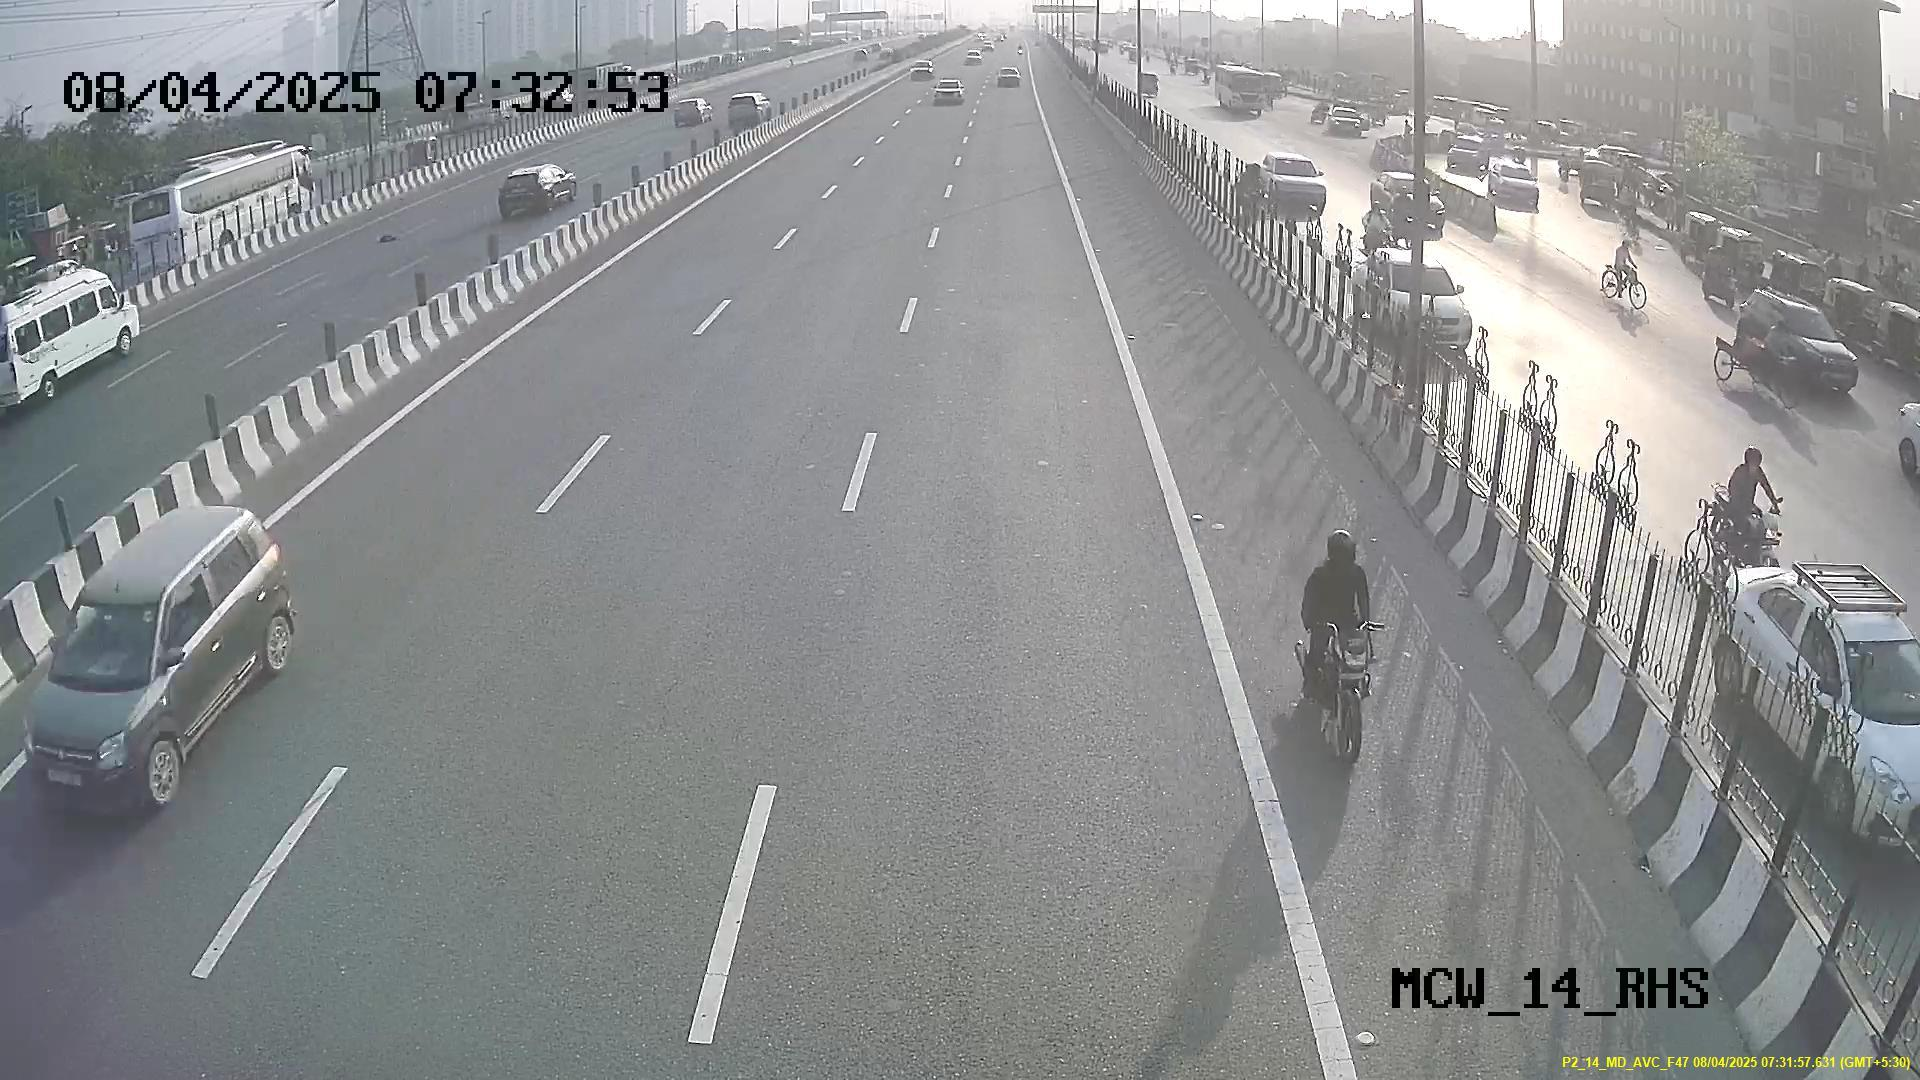bike: (1275, 518, 1393, 761)
car: (18, 543, 207, 810)
